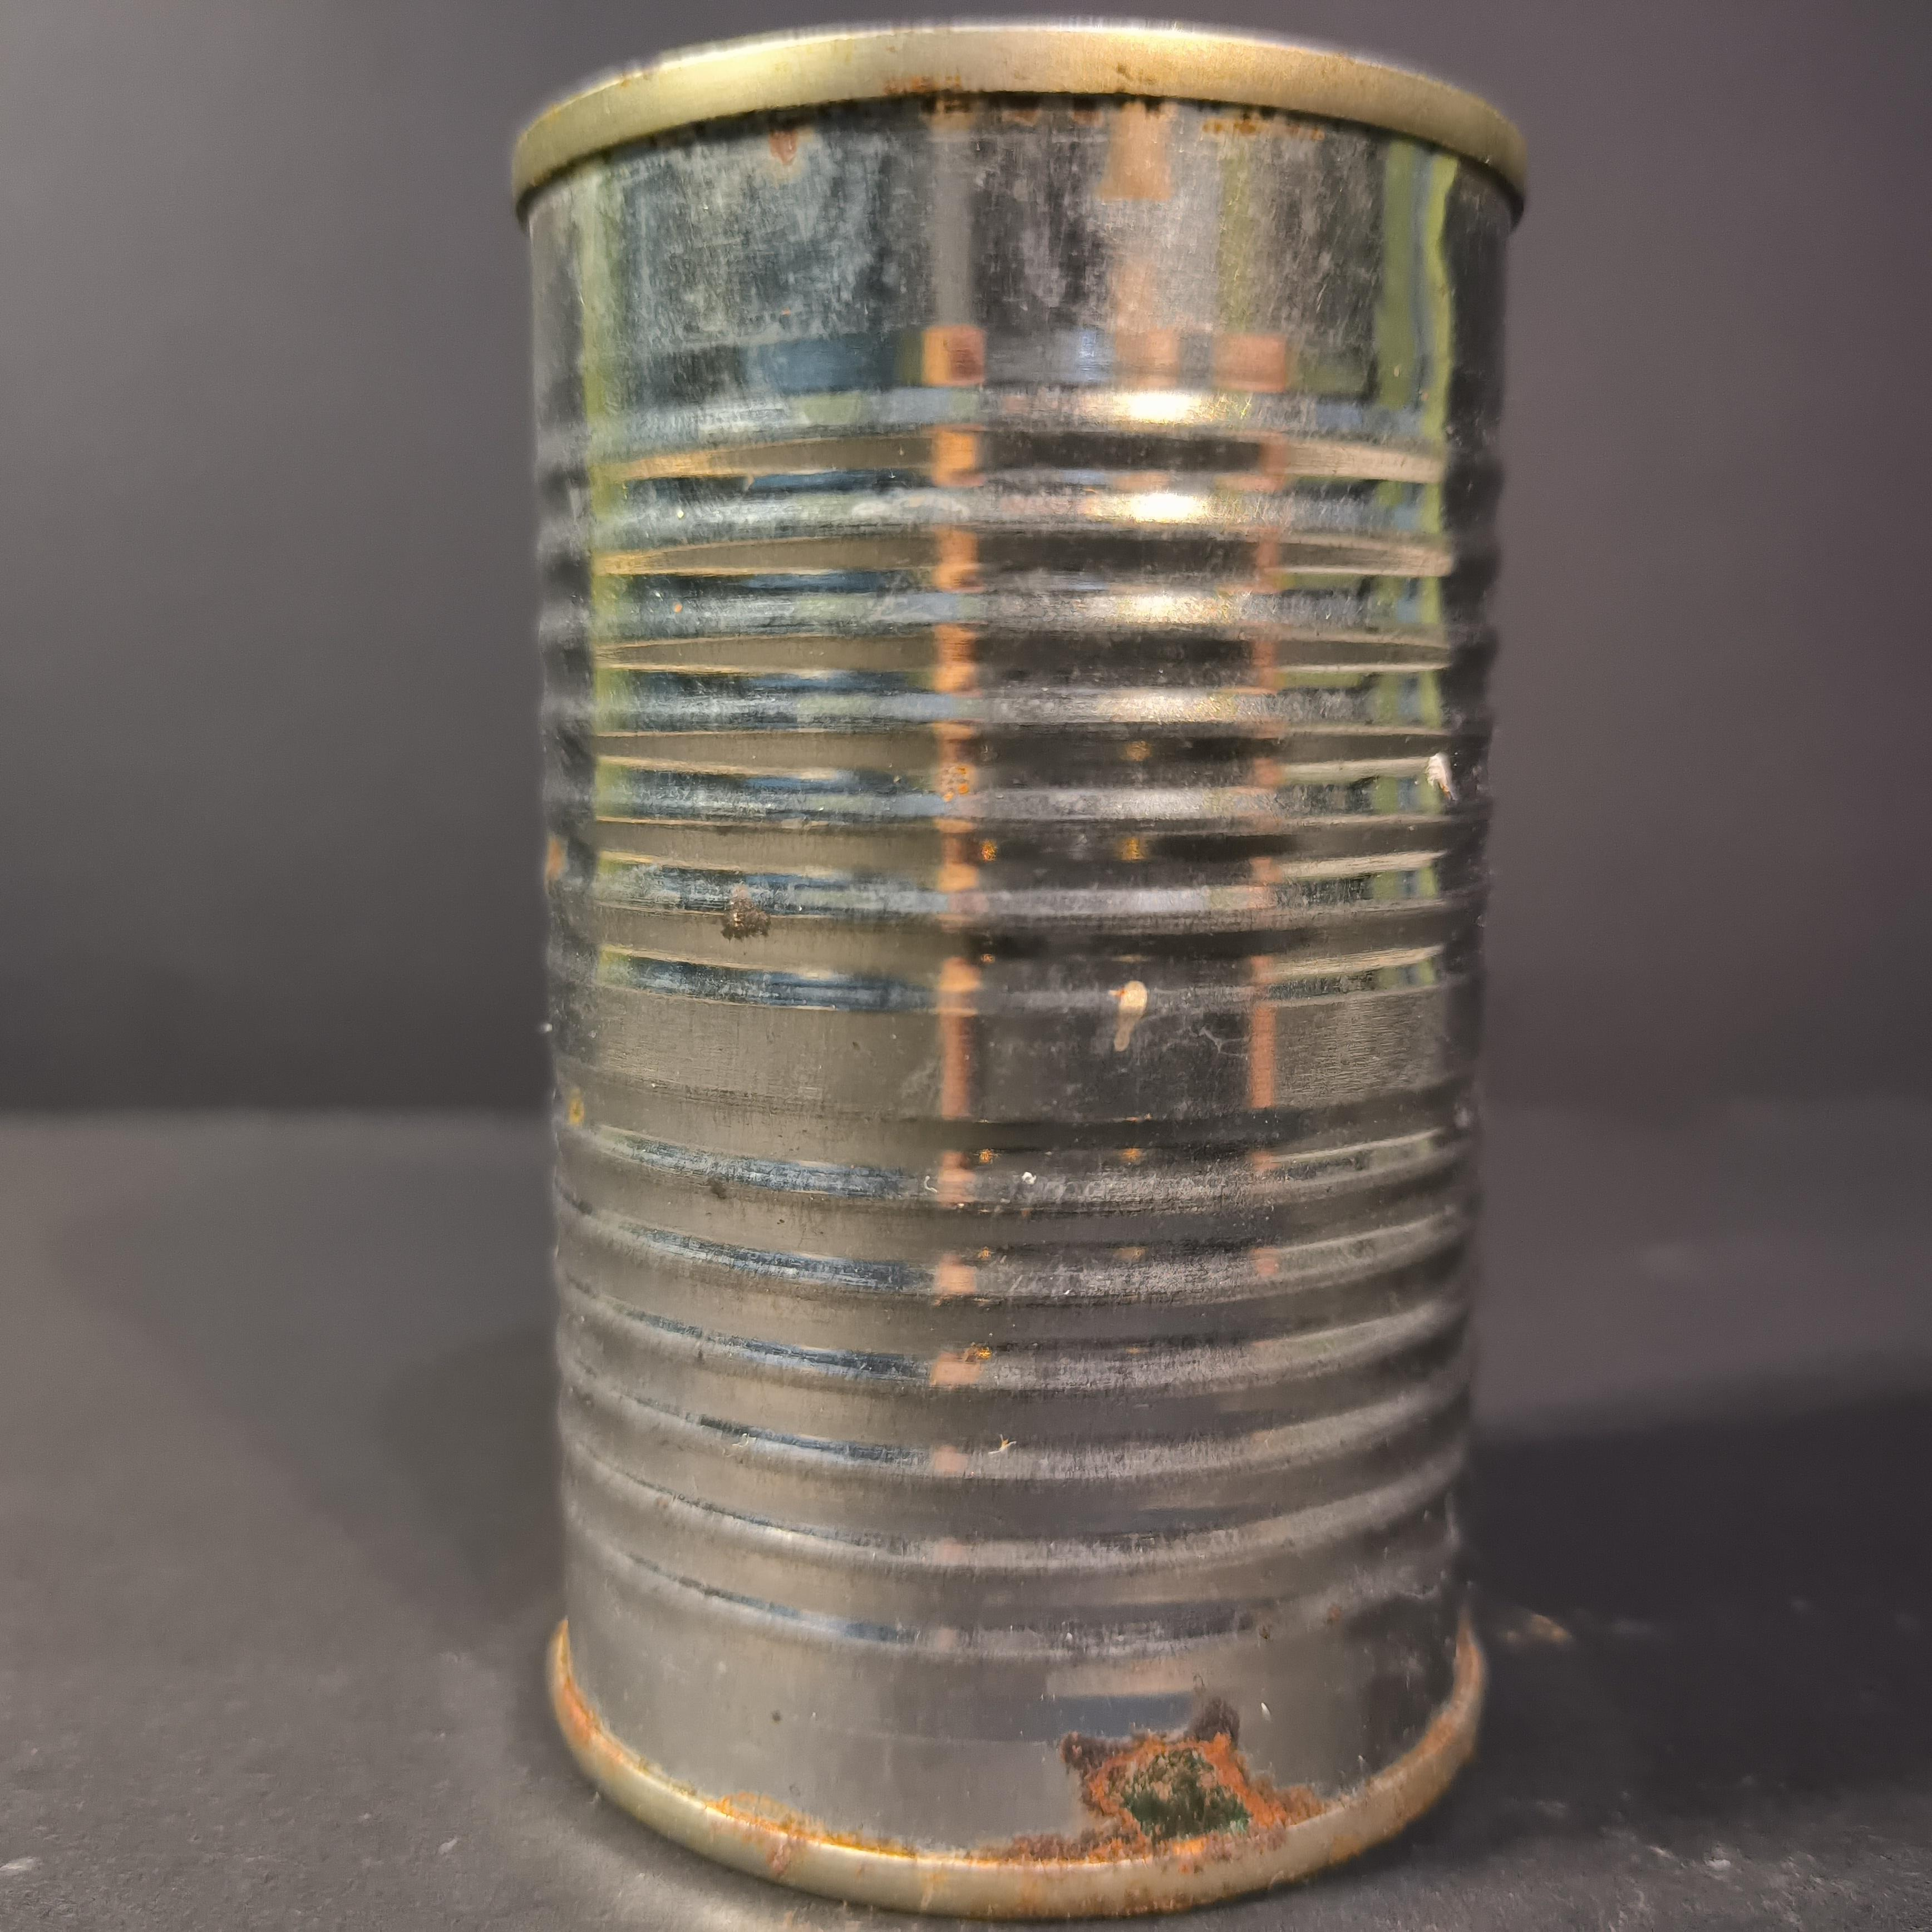Rusted: (487, 0, 1545, 1928)
